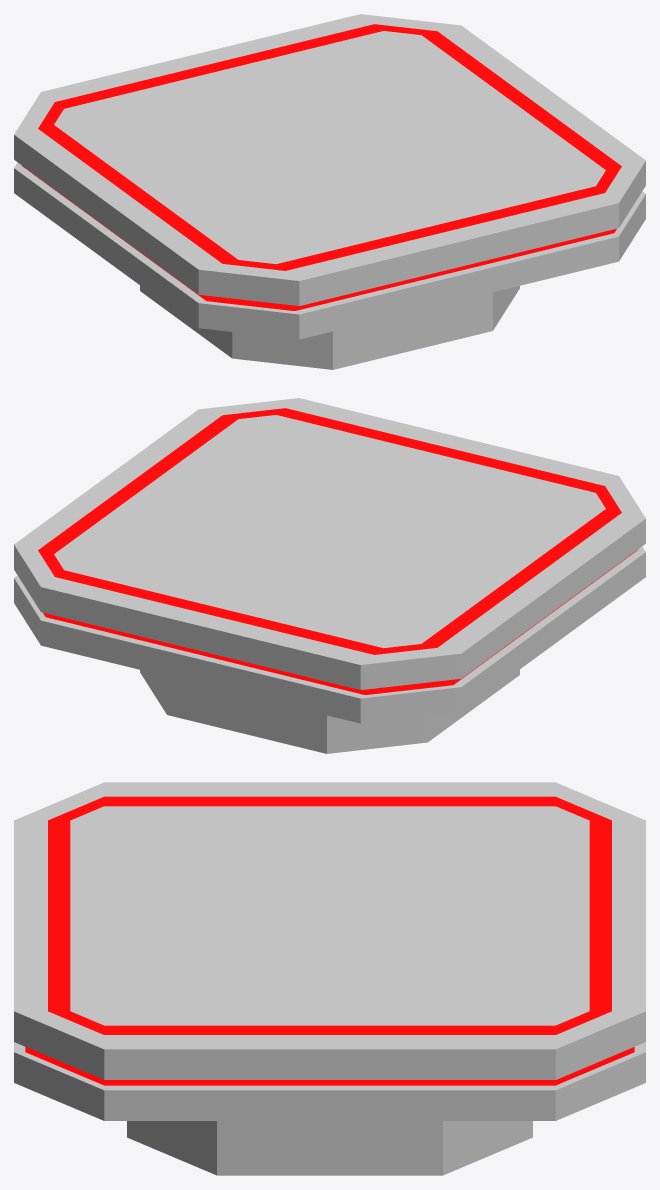
Rendered from platformStart.glb.
The picture shows the model from 3 angles, top to bottom: view 1: azimuth 30°, elevation 25°; view 2: azimuth 150°, elevation 25°; view 3: azimuth 270°, elevation 25°; orthographic projection. The views are drawn at different scales.
Parts seen in each view (by area): view 1: StartPlatformFrame, StartPlatformFlair; view 2: StartPlatformFrame, StartPlatformFlair; view 3: StartPlatformFrame, StartPlatformFlair.
Boxes of the visible parts, bbox=[...] form: StartPlatformFrame: bbox=[14, 14, 645, 369]; StartPlatformFlair: bbox=[22, 24, 621, 310]; StartPlatformFrame: bbox=[14, 398, 645, 753]; StartPlatformFlair: bbox=[38, 408, 637, 694]; StartPlatformFrame: bbox=[14, 782, 645, 1175]; StartPlatformFlair: bbox=[25, 796, 634, 1085].
Size of what is drawn, in the model's own units: 5.6 by 1.7 by 5.6.
